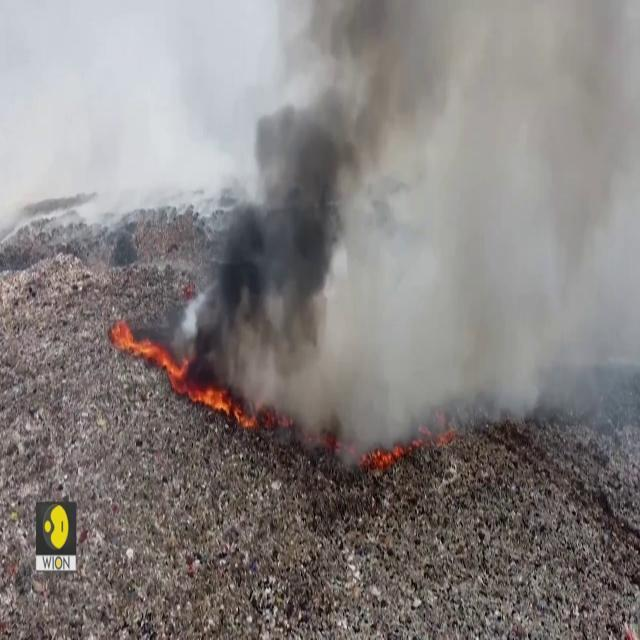Fire: (110, 316, 184, 384), (190, 376, 236, 418)
Smoke: (187, 0, 640, 449)
